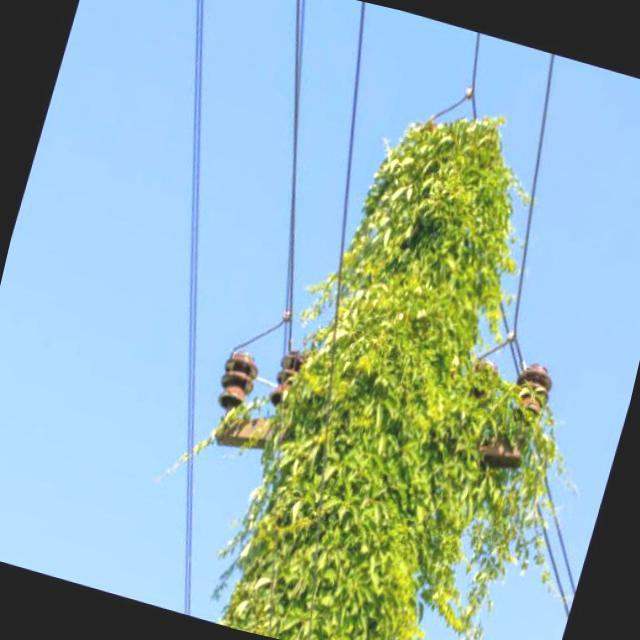critical vegetation: (218, 104, 570, 640)
